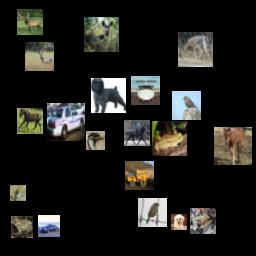airplane: (131, 76, 160, 105)
automobile: (47, 103, 85, 141), (38, 215, 60, 237)
bird: (138, 198, 167, 227), (172, 91, 201, 120), (86, 131, 105, 150), (10, 185, 26, 201)
deer: (178, 32, 213, 67), (84, 17, 119, 52), (25, 42, 54, 71), (17, 9, 43, 35)
dog: (91, 78, 126, 113), (171, 214, 187, 230)
frog: (152, 121, 187, 156), (190, 208, 216, 234), (11, 216, 33, 238)
truck: (125, 161, 154, 190)
